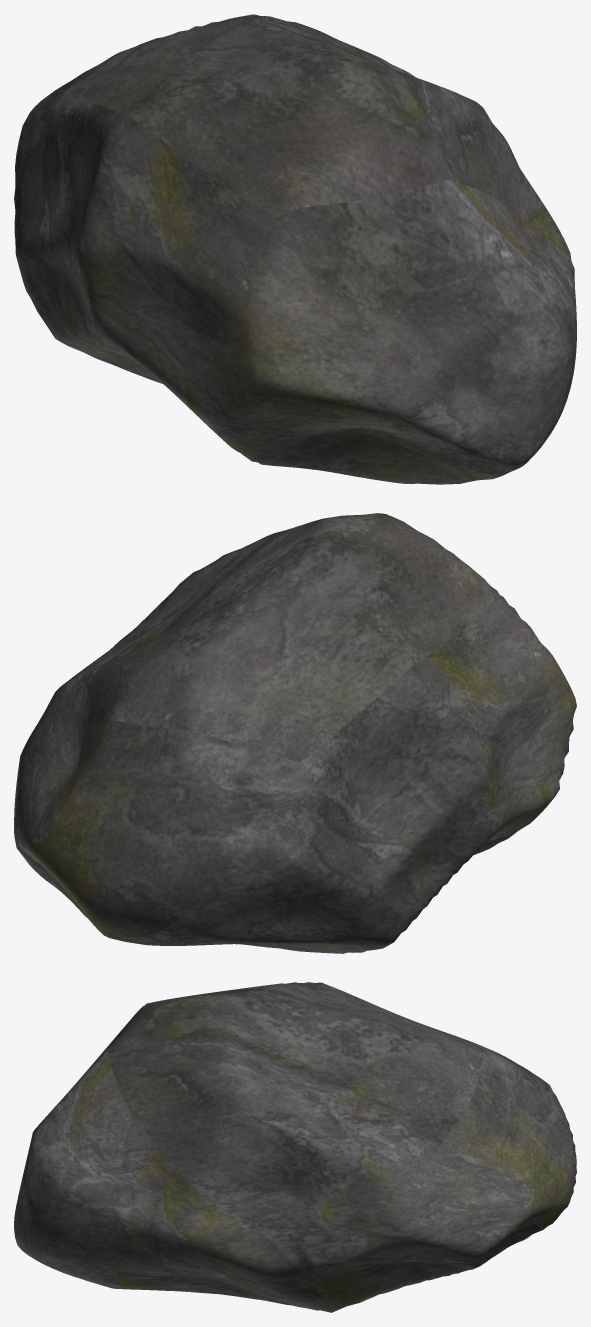
The model's file is RockVariant5.fbx.
3 renders of one model, top to bottom at view 1: azimuth 30°, elevation 25°; view 2: azimuth 150°, elevation 25°; view 3: azimuth 270°, elevation 25°, orthographic. The views are drawn at different scales.
Visible parts, largest first — view 1: Cube.005; view 2: Cube.005; view 3: Cube.005.
Boxes of the visible parts, left/top/right/bottom form: Cube.005: left=14, top=14, right=576, bottom=484; Cube.005: left=14, top=513, right=576, bottom=953; Cube.005: left=14, top=982, right=576, bottom=1312.
Size of the model in its own units: 204 by 168 by 302.
Materials: 1 (1 with a texture image).
